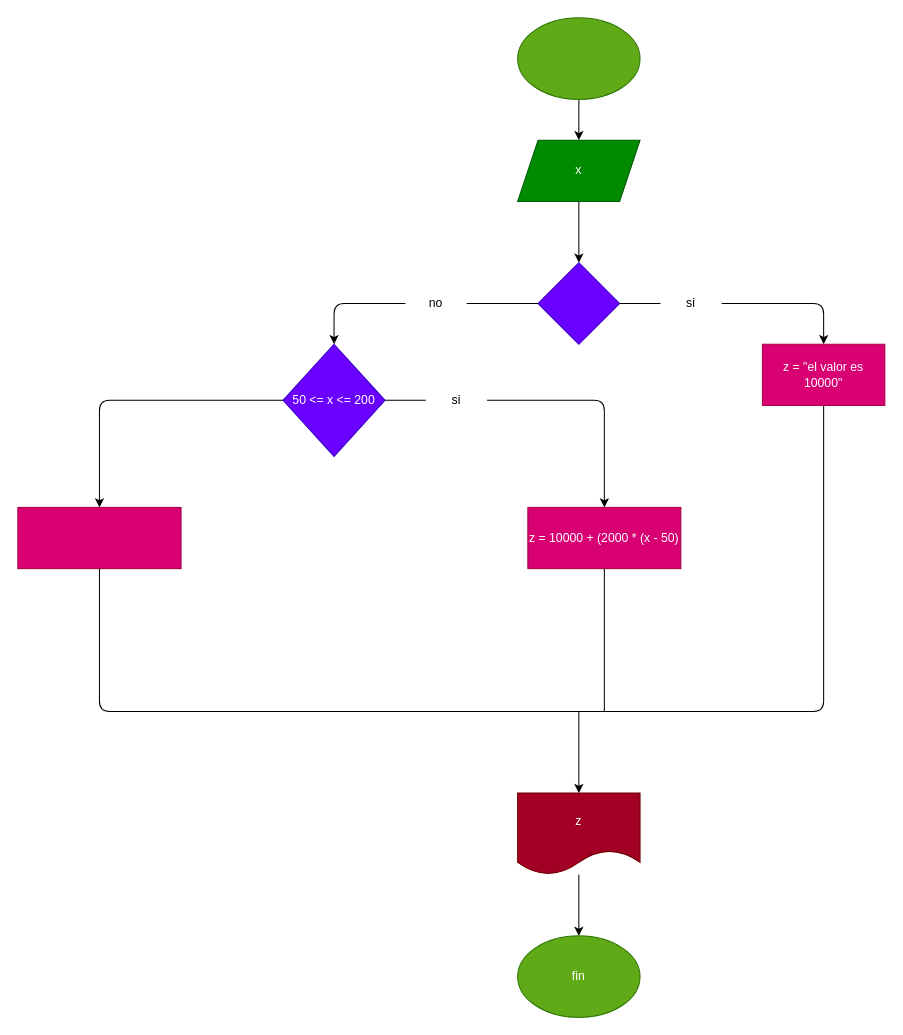
Some shapes in this 903 by 1035 pixel diagram are drawn without their labels. The shapes that lost their labels are listed below. From the top down, each one's centre as x and y in pixels, then its label:
the point at 578,58: inicio
the point at 578,303: x < 50
the point at 99,537: z = 10000 + (3000 * (x - 200)
